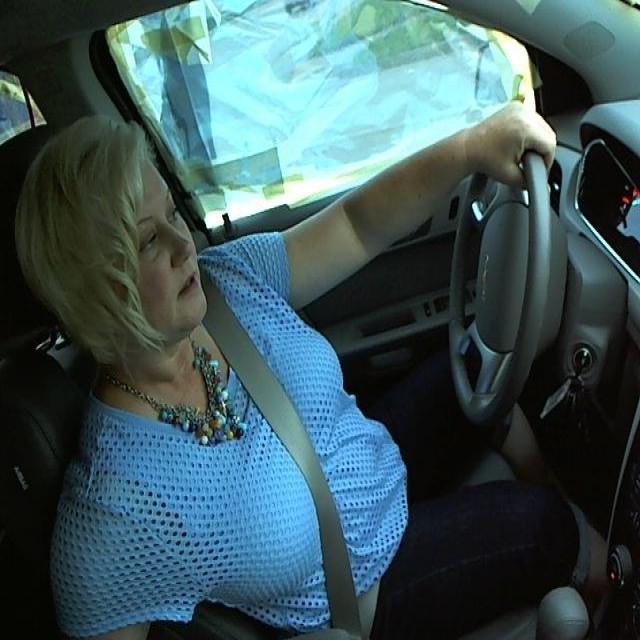seatbelt: (207, 327, 377, 622)
